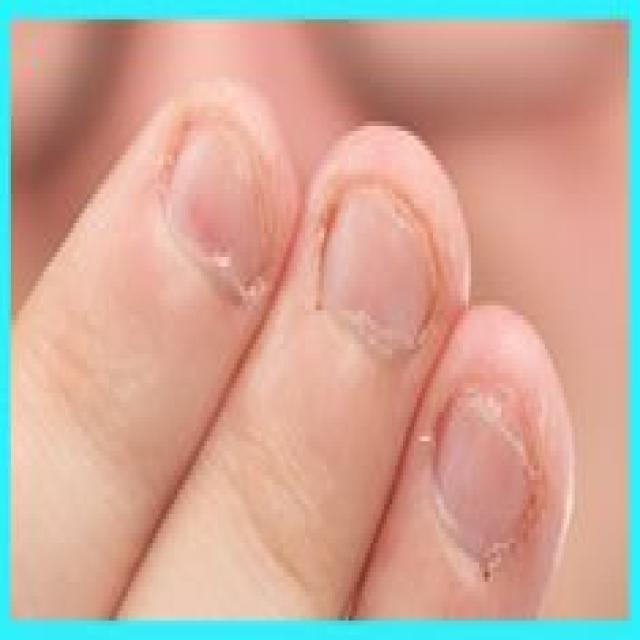Fingernail: (321, 188, 437, 353), (164, 113, 270, 283), (437, 390, 531, 558)
